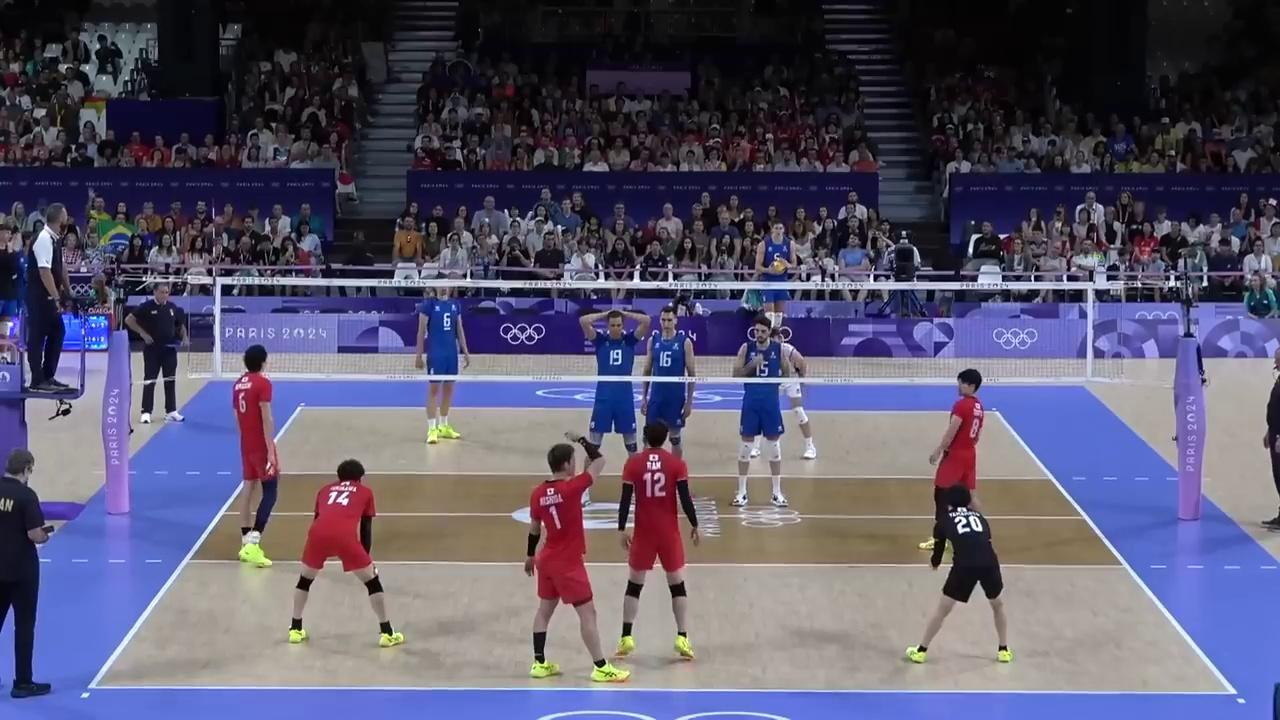ball: (768, 261, 786, 273)
